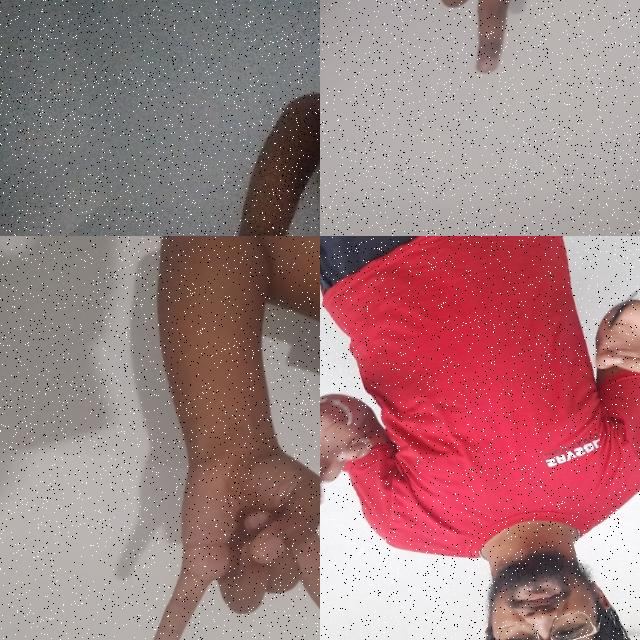Corna: (71, 362, 320, 640)
Middle Finger: (356, 0, 578, 98)
Okay: (320, 380, 389, 526), (572, 277, 640, 416)
